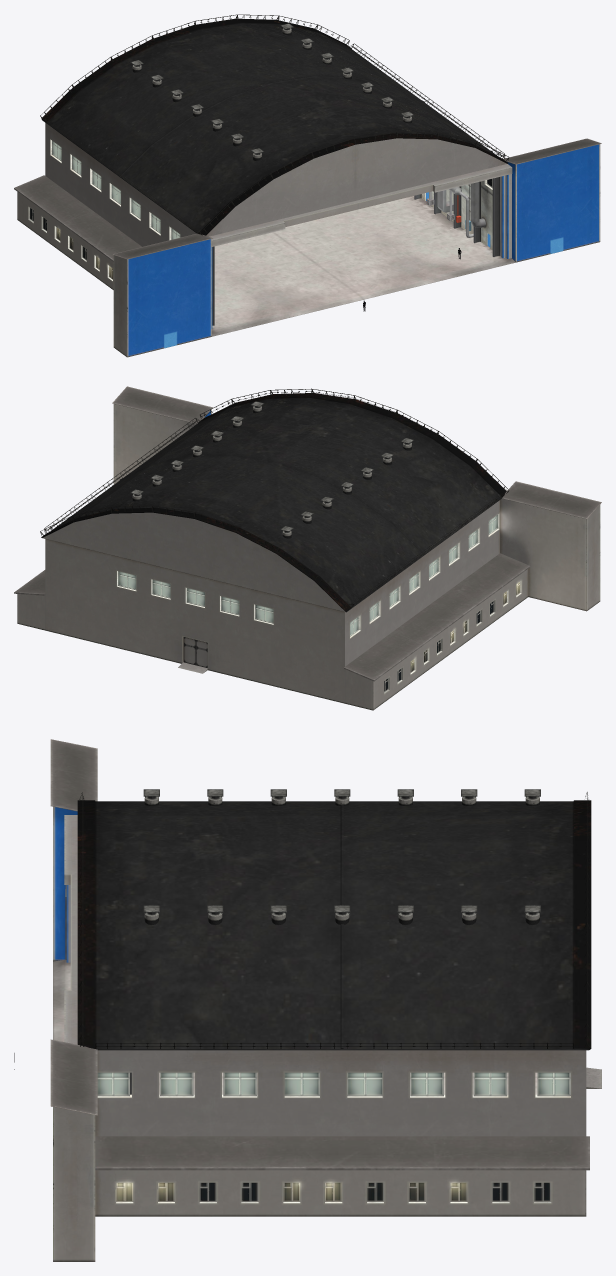
File: Hangar.fbx
The picture shows the model from 3 angles, top to bottom: view 1: azimuth 30°, elevation 25°; view 2: azimuth 150°, elevation 25°; view 3: azimuth 270°, elevation 25°; orthographic projection. The views are drawn at different scales.
Parts seen in each view (by area): view 1: Obj3d66-8837216-10-815, Obj3d66-8837216-5-368, Obj3d66-8837216-2-72, Obj3d66-8837216-9-97; view 2: Obj3d66-8837216-10-815, Obj3d66-8837216-5-368, Obj3d66-8837216-2-72; view 3: Obj3d66-8837216-10-815, Obj3d66-8837216-1-250, Obj3d66-8837216-5-368.
Part boxes in pixels (x1,y1,x2,y2): Obj3d66-8837216-10-815: (14,18,601,357); Obj3d66-8837216-5-368: (40,14,509,235); Obj3d66-8837216-2-72: (52,141,180,239); Obj3d66-8837216-9-97: (505,174,511,258); Obj3d66-8837216-10-815: (14,386,601,710); Obj3d66-8837216-5-368: (40,388,509,623); Obj3d66-8837216-2-72: (350,515,497,636); Obj3d66-8837216-10-815: (50,739,601,1261); Obj3d66-8837216-1-250: (97,1072,570,1096); Obj3d66-8837216-5-368: (79,792,589,1048).
Size of what is drawn, in the model's own units: 3205 by 1001 by 2171.
6 materials, 5 textured.
